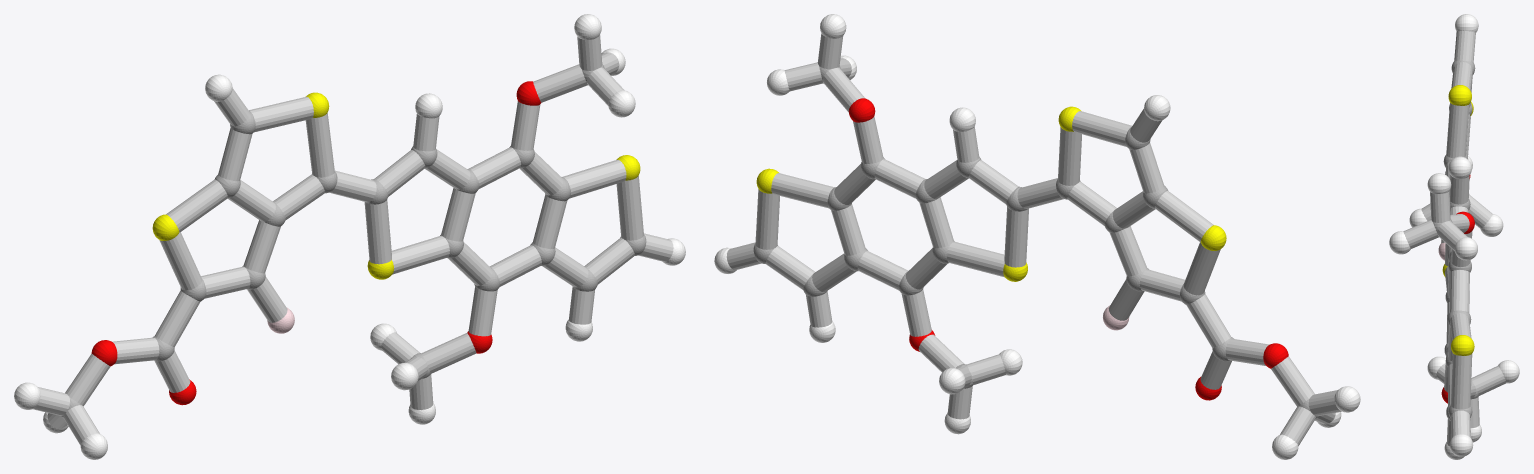
Rendered from color.glb.
The picture shows the model from 3 angles, left to right: view 1: azimuth 30°, elevation 25°; view 2: azimuth 150°, elevation 25°; view 3: azimuth 270°, elevation 25°; orthographic projection. The views are drawn at different scales.
Parts seen in each view (by area): view 1: grp15205, grp8689, grp1, grp7241, grp13395; view 2: grp15205, grp8689, grp1, grp7241, grp13395; view 3: grp15205, grp8689, grp1, grp7241, grp13395.
Boxes of the visible parts, x1,y1,x2,y2 form: grp15205: (33,35,673,445); grp8689: (14,14,685,459); grp1: (60,64,646,418); grp7241: (152,92,640,279); grp13395: (91,81,541,405); grp15205: (726,33,1341,445); grp8689: (714,14,1360,459); grp1: (753,66,1318,418); grp7241: (756,106,1226,281); grp13395: (848,98,1288,400); grp15205: (1403,30,1506,445); grp8689: (1389,14,1519,459); grp1: (1433,60,1478,420); grp7241: (1442,85,1474,355); grp13395: (1441,175,1474,403).
Size of the model in its own units: 16.77 by 9.57 by 3.32.
